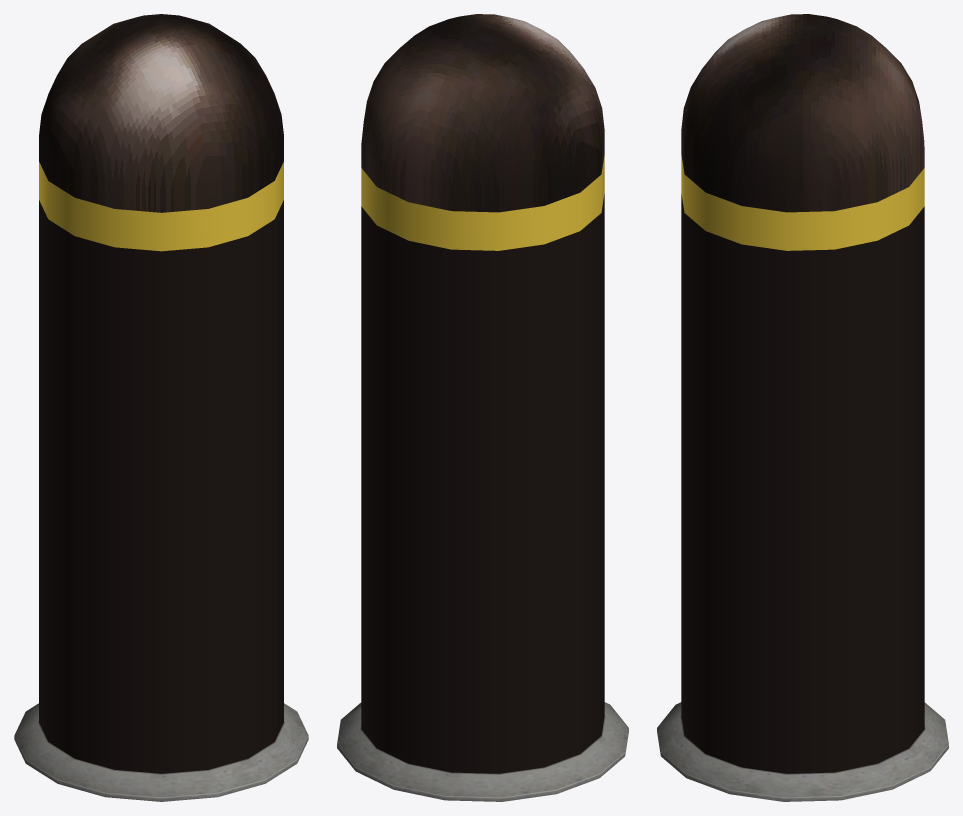
3 renders of one model, left to right at view 1: azimuth 30°, elevation 25°; view 2: azimuth 150°, elevation 25°; view 3: azimuth 270°, elevation 25°, orthographic.
Parts seen in each view (by area): view 1: Joint_0_Object_2, Joint_0_Object_1, Joint_0_Object_0; view 2: Joint_0_Object_2, Joint_0_Object_1, Joint_0_Object_0; view 3: Joint_0_Object_2, Joint_0_Object_1, Joint_0_Object_0.
Boxes of the visible parts, left/top/right/bottom form: Joint_0_Object_2: left=39, top=14, right=283, bottom=773; Joint_0_Object_1: left=14, top=703, right=308, bottom=801; Joint_0_Object_0: left=39, top=162, right=283, bottom=251; Joint_0_Object_2: left=361, top=14, right=604, bottom=773; Joint_0_Object_1: left=337, top=702, right=628, bottom=801; Joint_0_Object_0: left=361, top=155, right=604, bottom=250; Joint_0_Object_2: left=681, top=14, right=924, bottom=773; Joint_0_Object_1: left=657, top=702, right=948, bottom=801; Joint_0_Object_0: left=681, top=155, right=924, bottom=250.
Size of the model in its own units: 296 by 800 by 296.
Materials: 3 (2 with a texture image).
